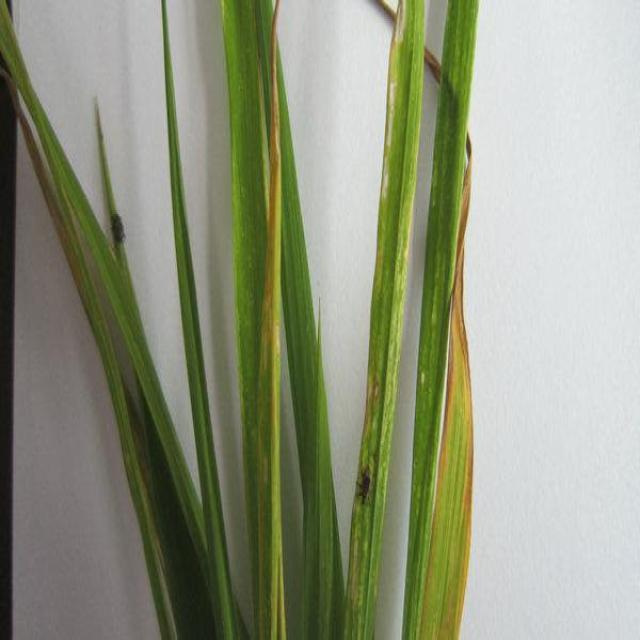ricebug: (111, 212, 124, 247)
